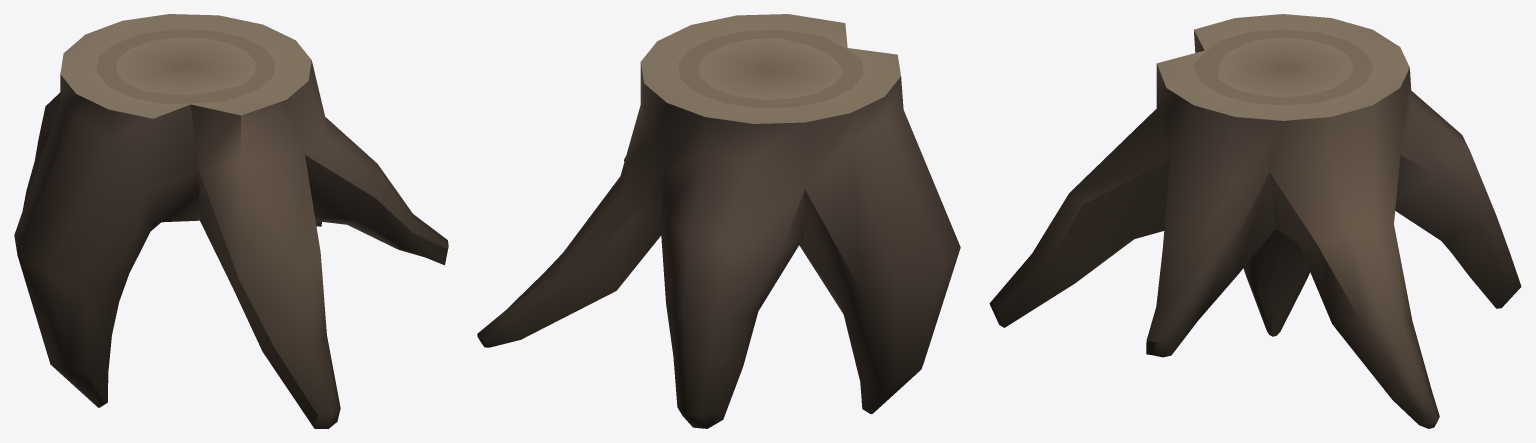
File: trees-dead-trees-wood-tree-stump_v2.glb
3 renders of one model, left to right at view 1: azimuth 30°, elevation 25°; view 2: azimuth 150°, elevation 25°; view 3: azimuth 270°, elevation 25°, orthographic. The views are drawn at different scales.
Visible parts, largest first — view 1: Tree Stump_v2; view 2: Tree Stump_v2; view 3: Tree Stump_v2.
Part boxes in pixels (left/top/right/bottom): Tree Stump_v2: left=14, top=14, right=448, bottom=428; Tree Stump_v2: left=477, top=14, right=960, bottom=428; Tree Stump_v2: left=989, top=14, right=1521, bottom=428.
Bounding box in the file's own units: 0.6532 × 0.5204 × 0.8.
